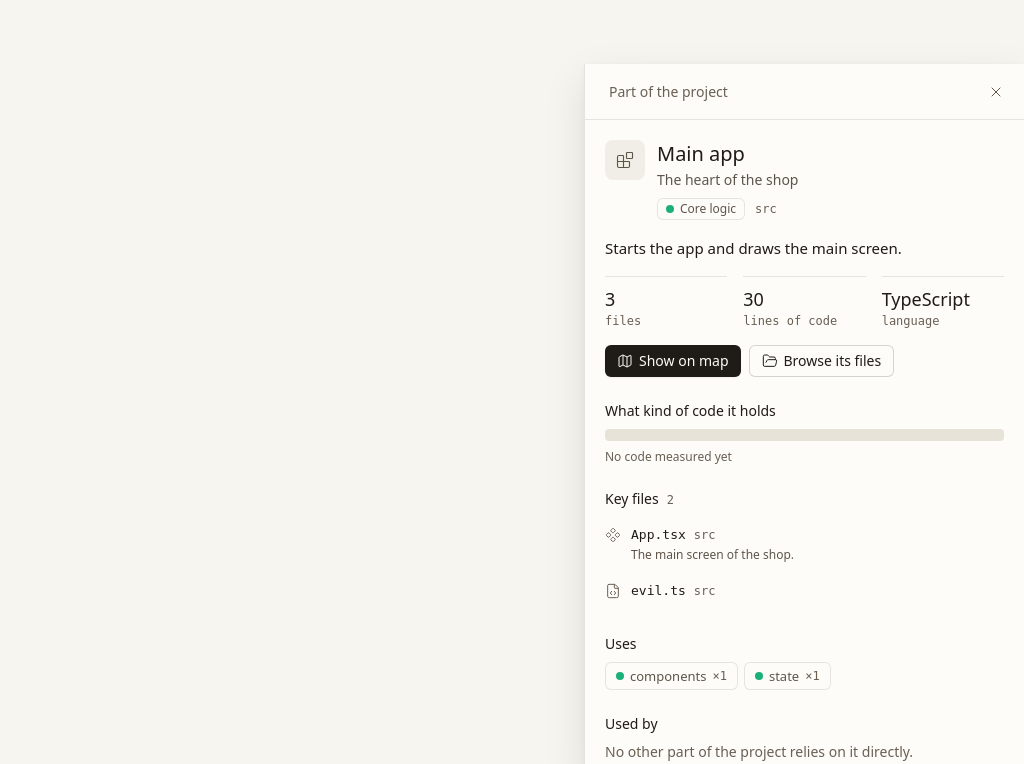
Test: ExplainPanel › navigates inside the panel and back
What coordinates should you click on to do the following:
click the button "components ×1"
I would click on:
 (671, 676)
Its box is [605,662,738,690].
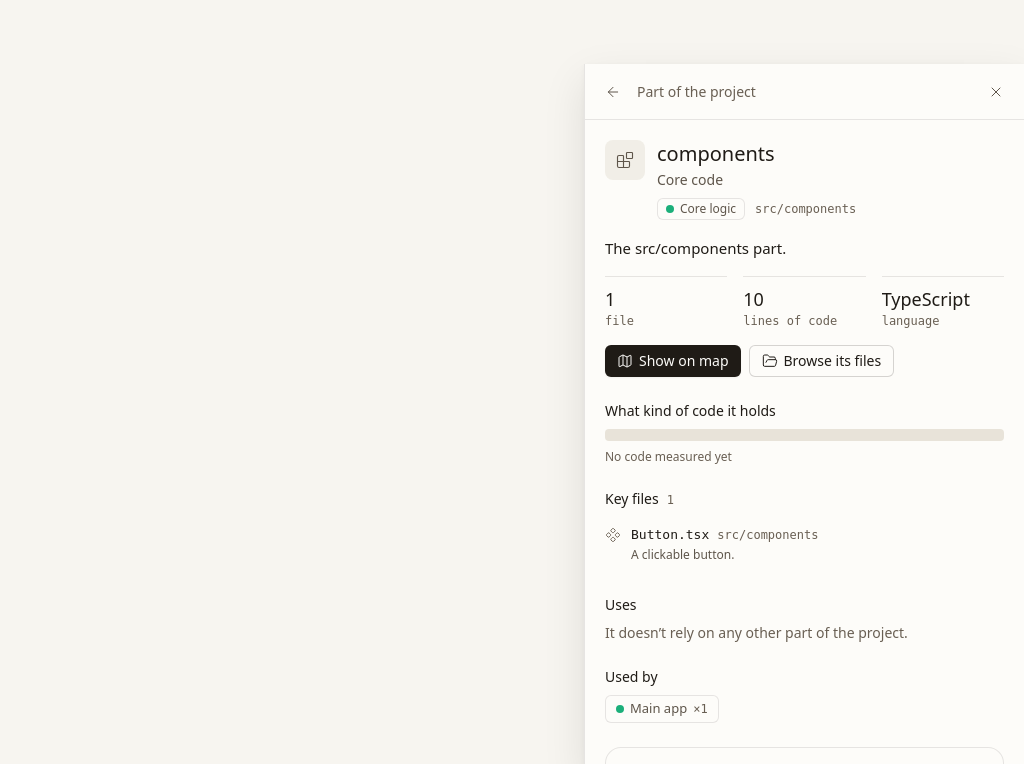
Result: the heading "components" is shown at [657,140,775,167]
What coordinates should you click on to do the following:
click the button named "Back"
I would click on:
 (613, 92)
Its box is [597,76,629,108].
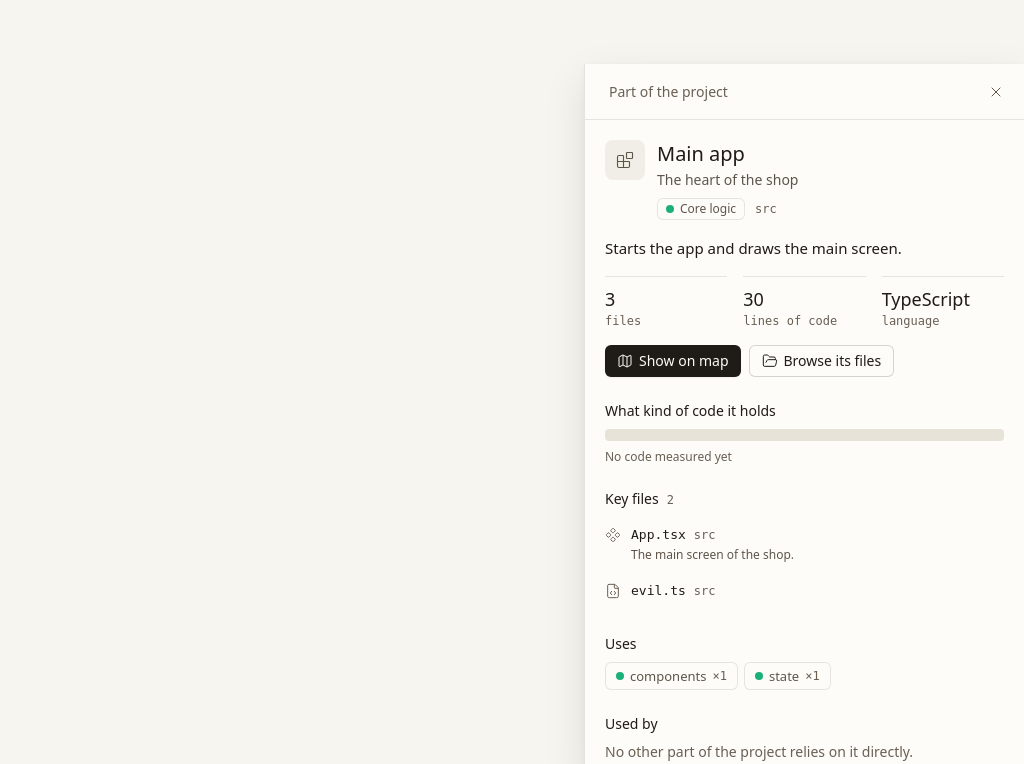
Result: the heading "Main app" is shown at [657,140,745,167]
